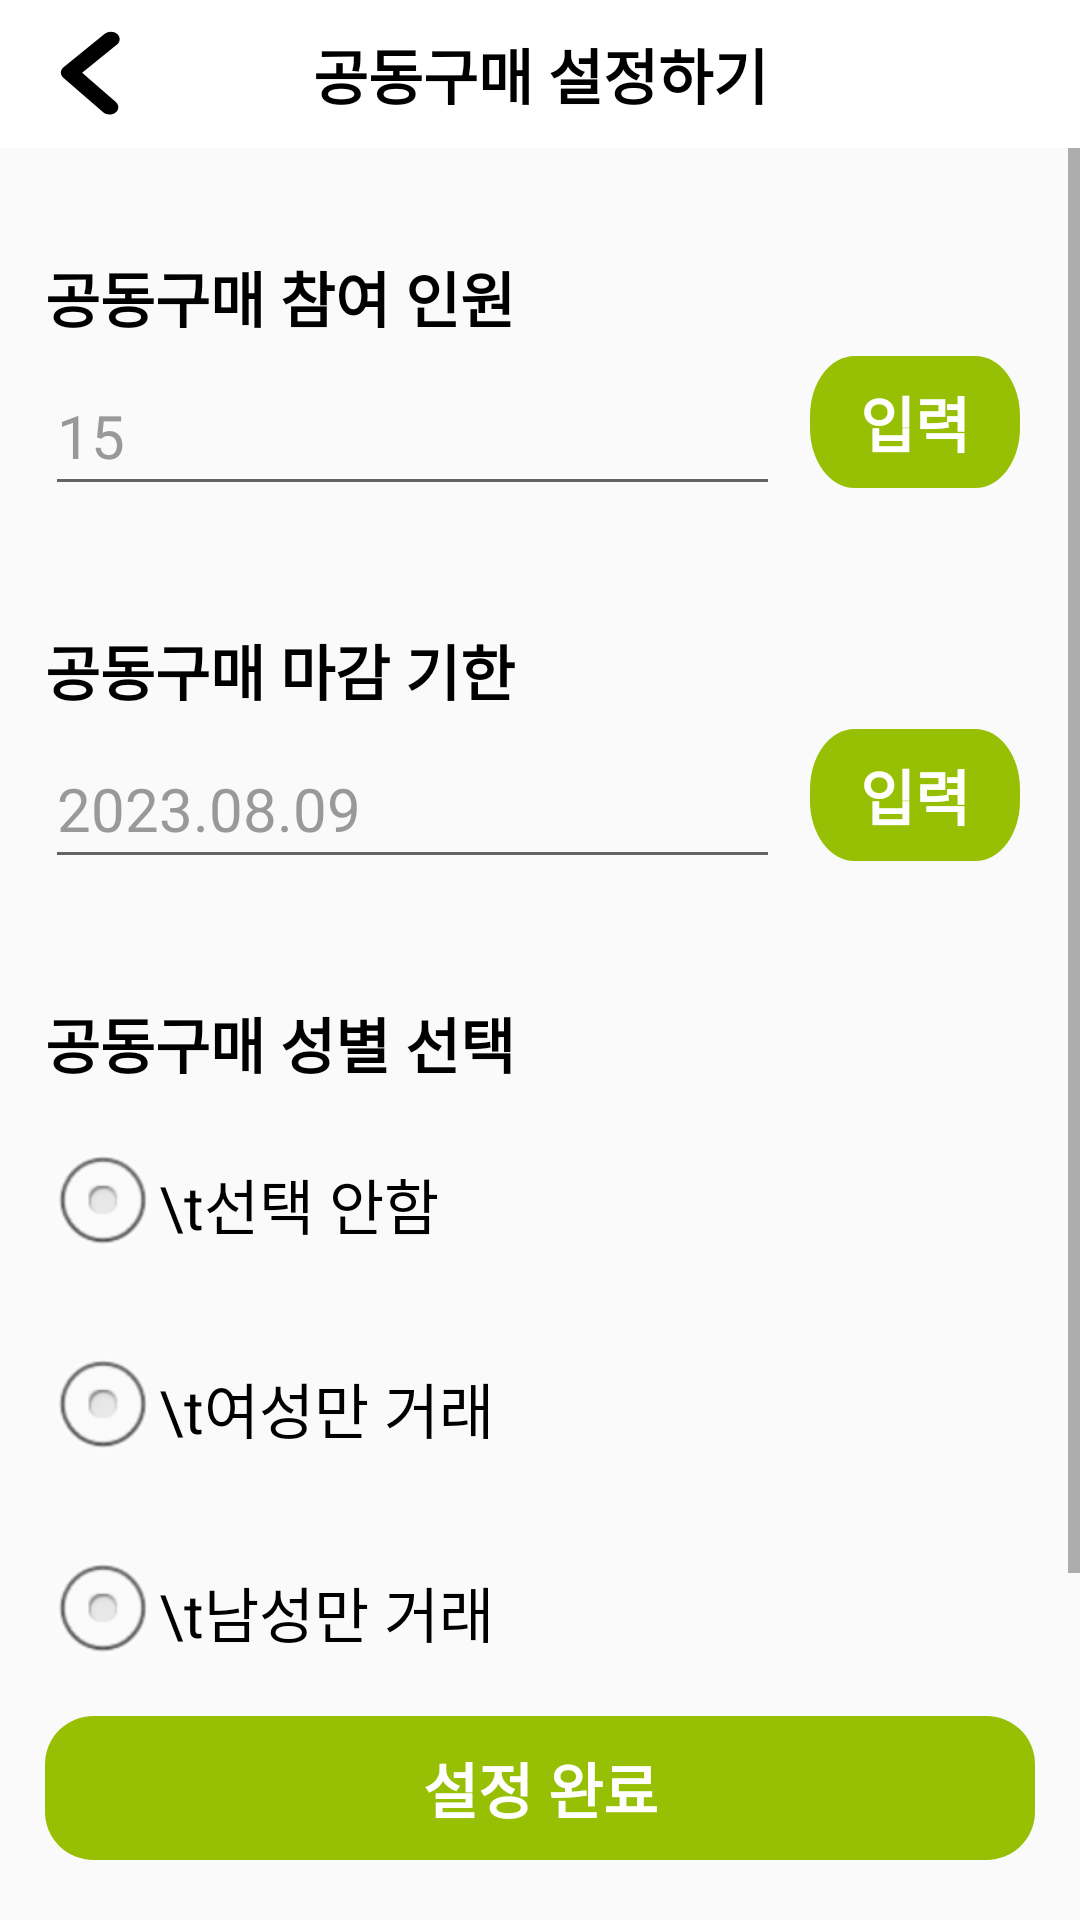

Screen size 1080px×1920px. Icon name, then its box in pixels as [x1,y1,x2,y2]:
Go Back: [60,31,120,115]
